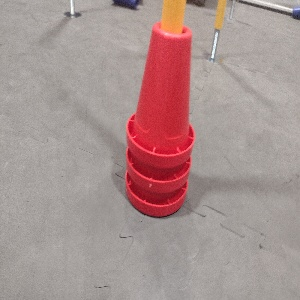Red_3: (126, 17, 195, 217)
